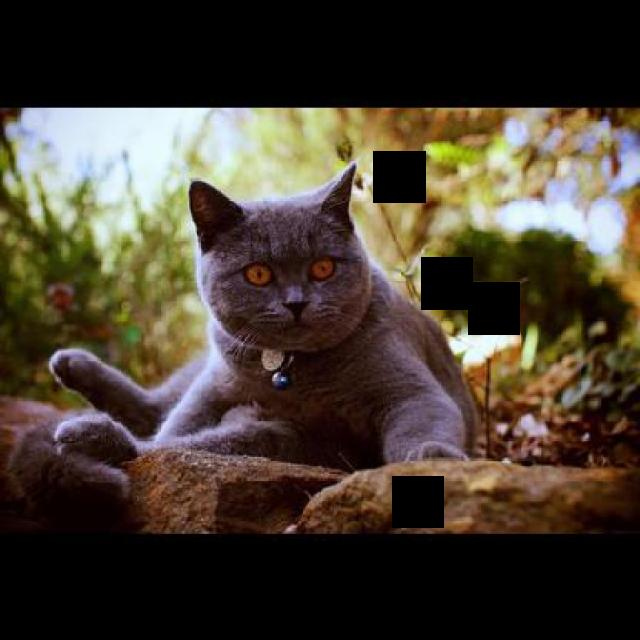unauthorized: (46, 158, 480, 472)
